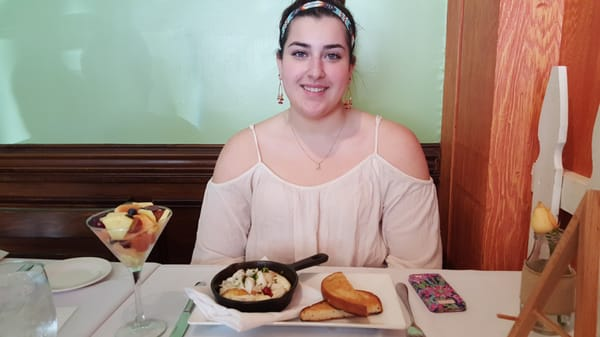pizza: (0, 258, 59, 335)
sushi: (211, 259, 299, 310)
